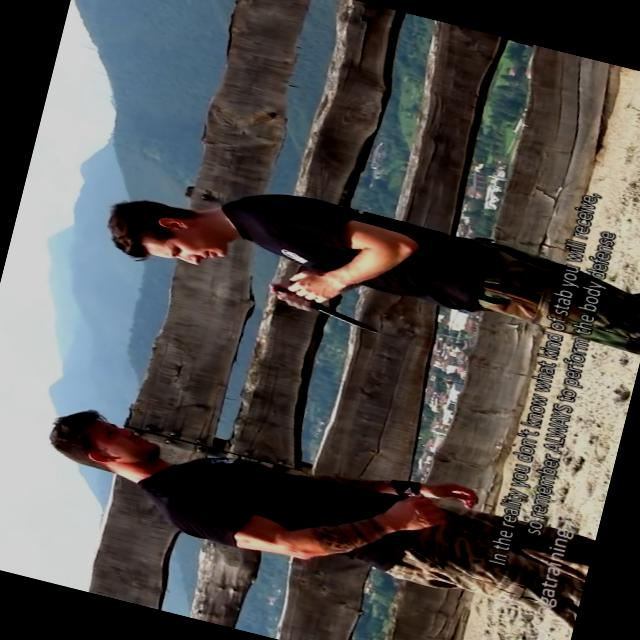knife: (262, 280, 388, 338)
